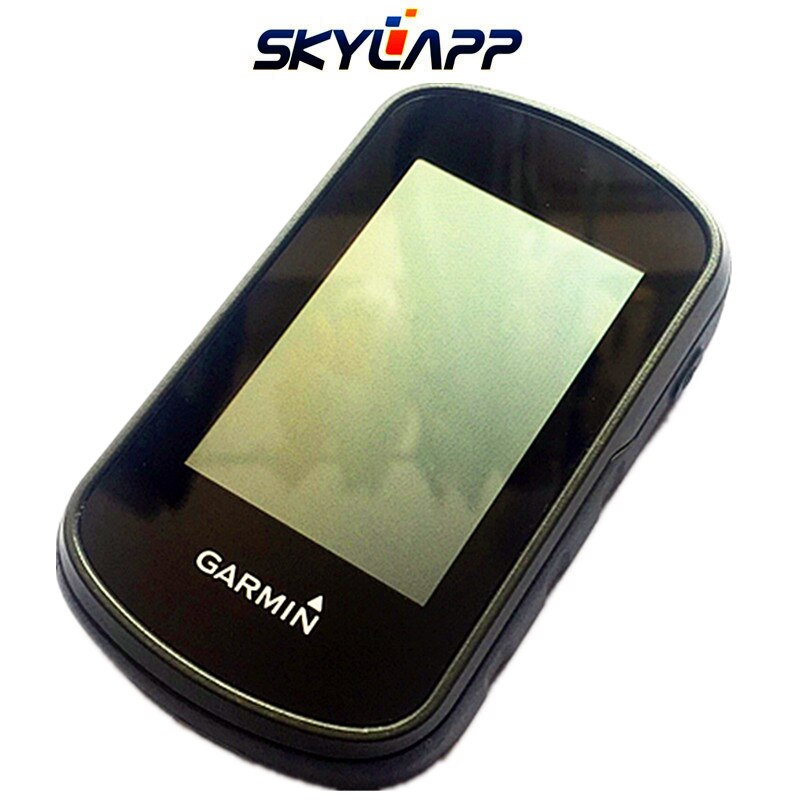Phone: (51, 77, 740, 795)
